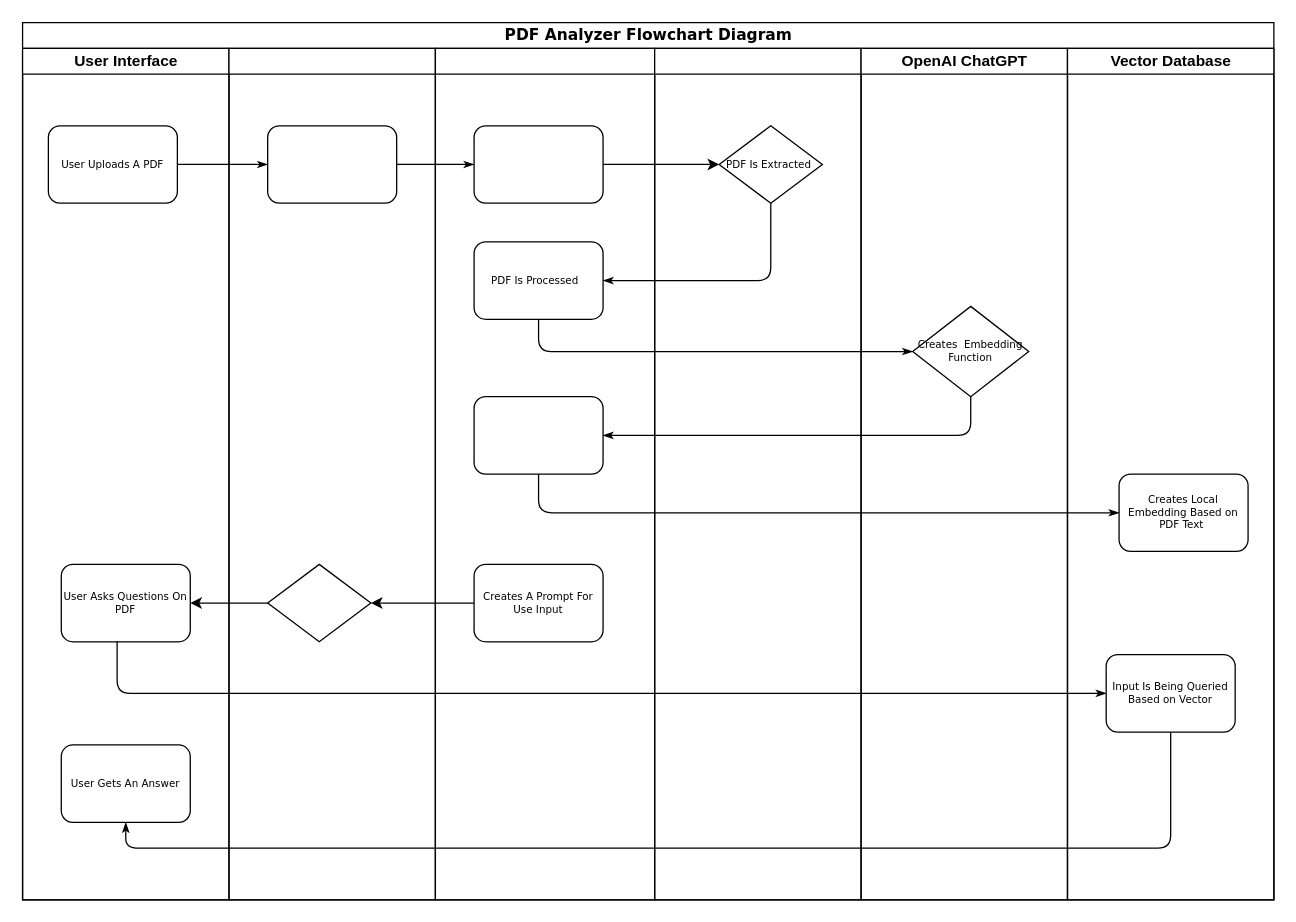
The diagram is 1296 pixels wide and 922 high, and some of its shapes have lost their labels. The shapes that lost their labels are listed below. From the top down, each one's box as (x1, y1, x2, y2) in pixels, then its label:
(266, 124, 397, 203): Streamlit App Processes The PDF
(473, 124, 603, 203): PDF Is Being Sent To Azure Document Intelligence
(473, 395, 603, 474): Creates A Vector Collection Based On Function
(228, 47, 435, 900): Frontend
(434, 47, 655, 900): Backend
(653, 47, 861, 900): Azure Services
(266, 563, 371, 642): Prompt Is Being Shown
